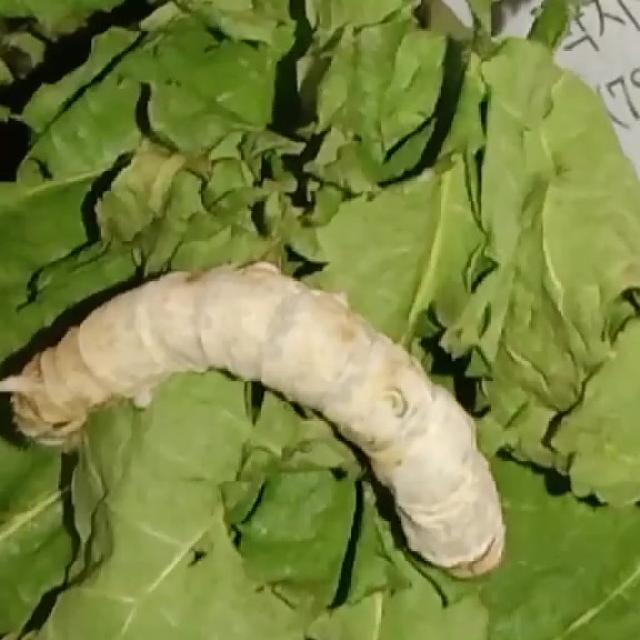Grasserie: (1, 254, 515, 594)
